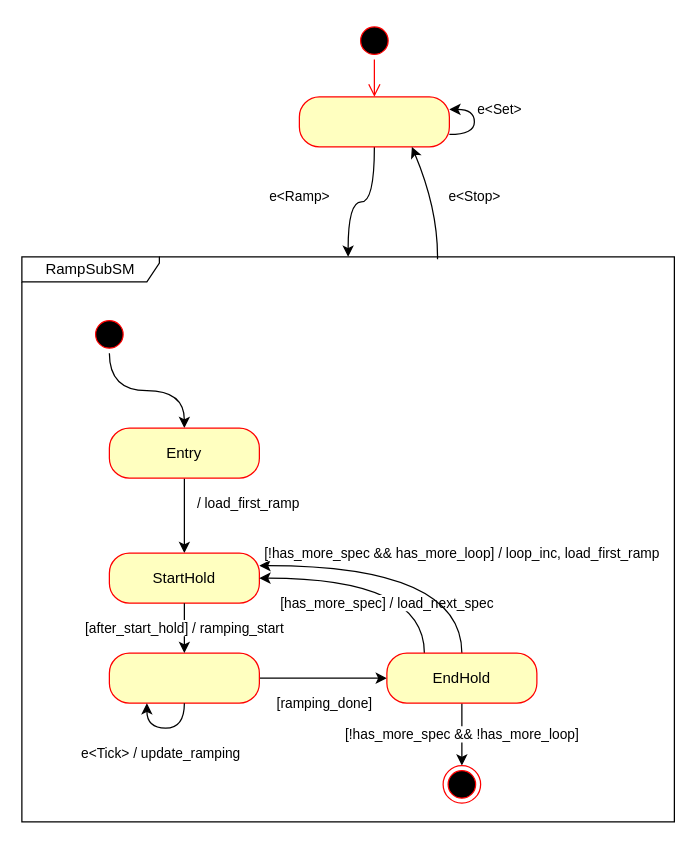
The diagram is 696 pixels wide and 844 high, and some of its shapes have lost their labels. Here are the shapes that lost their labels. From the top down, the centre of each, then its label:
At pixel 373 121: "Idle".
At pixel 183 677: "Ramping".
